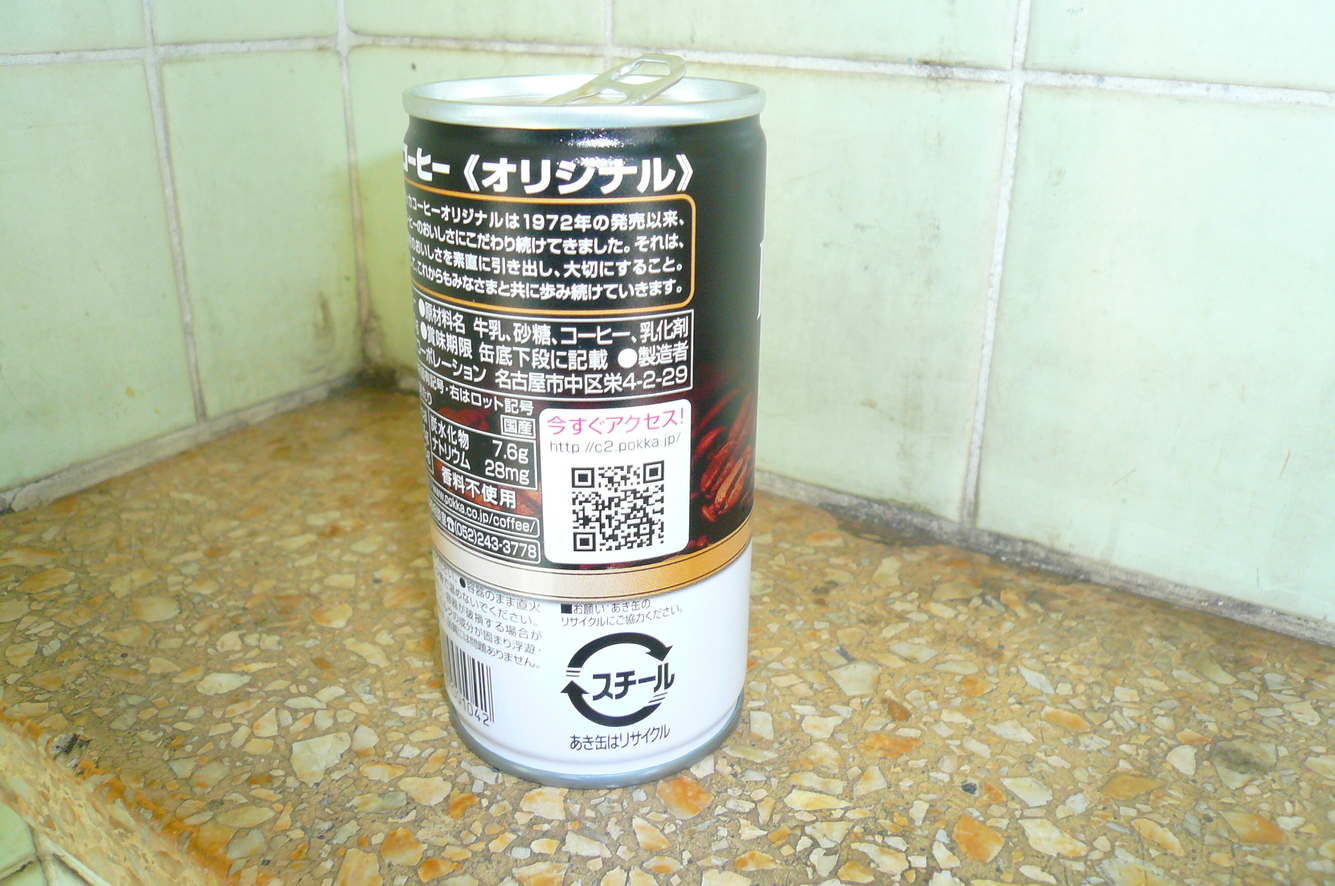QR-CODE: (572, 460, 664, 551)
